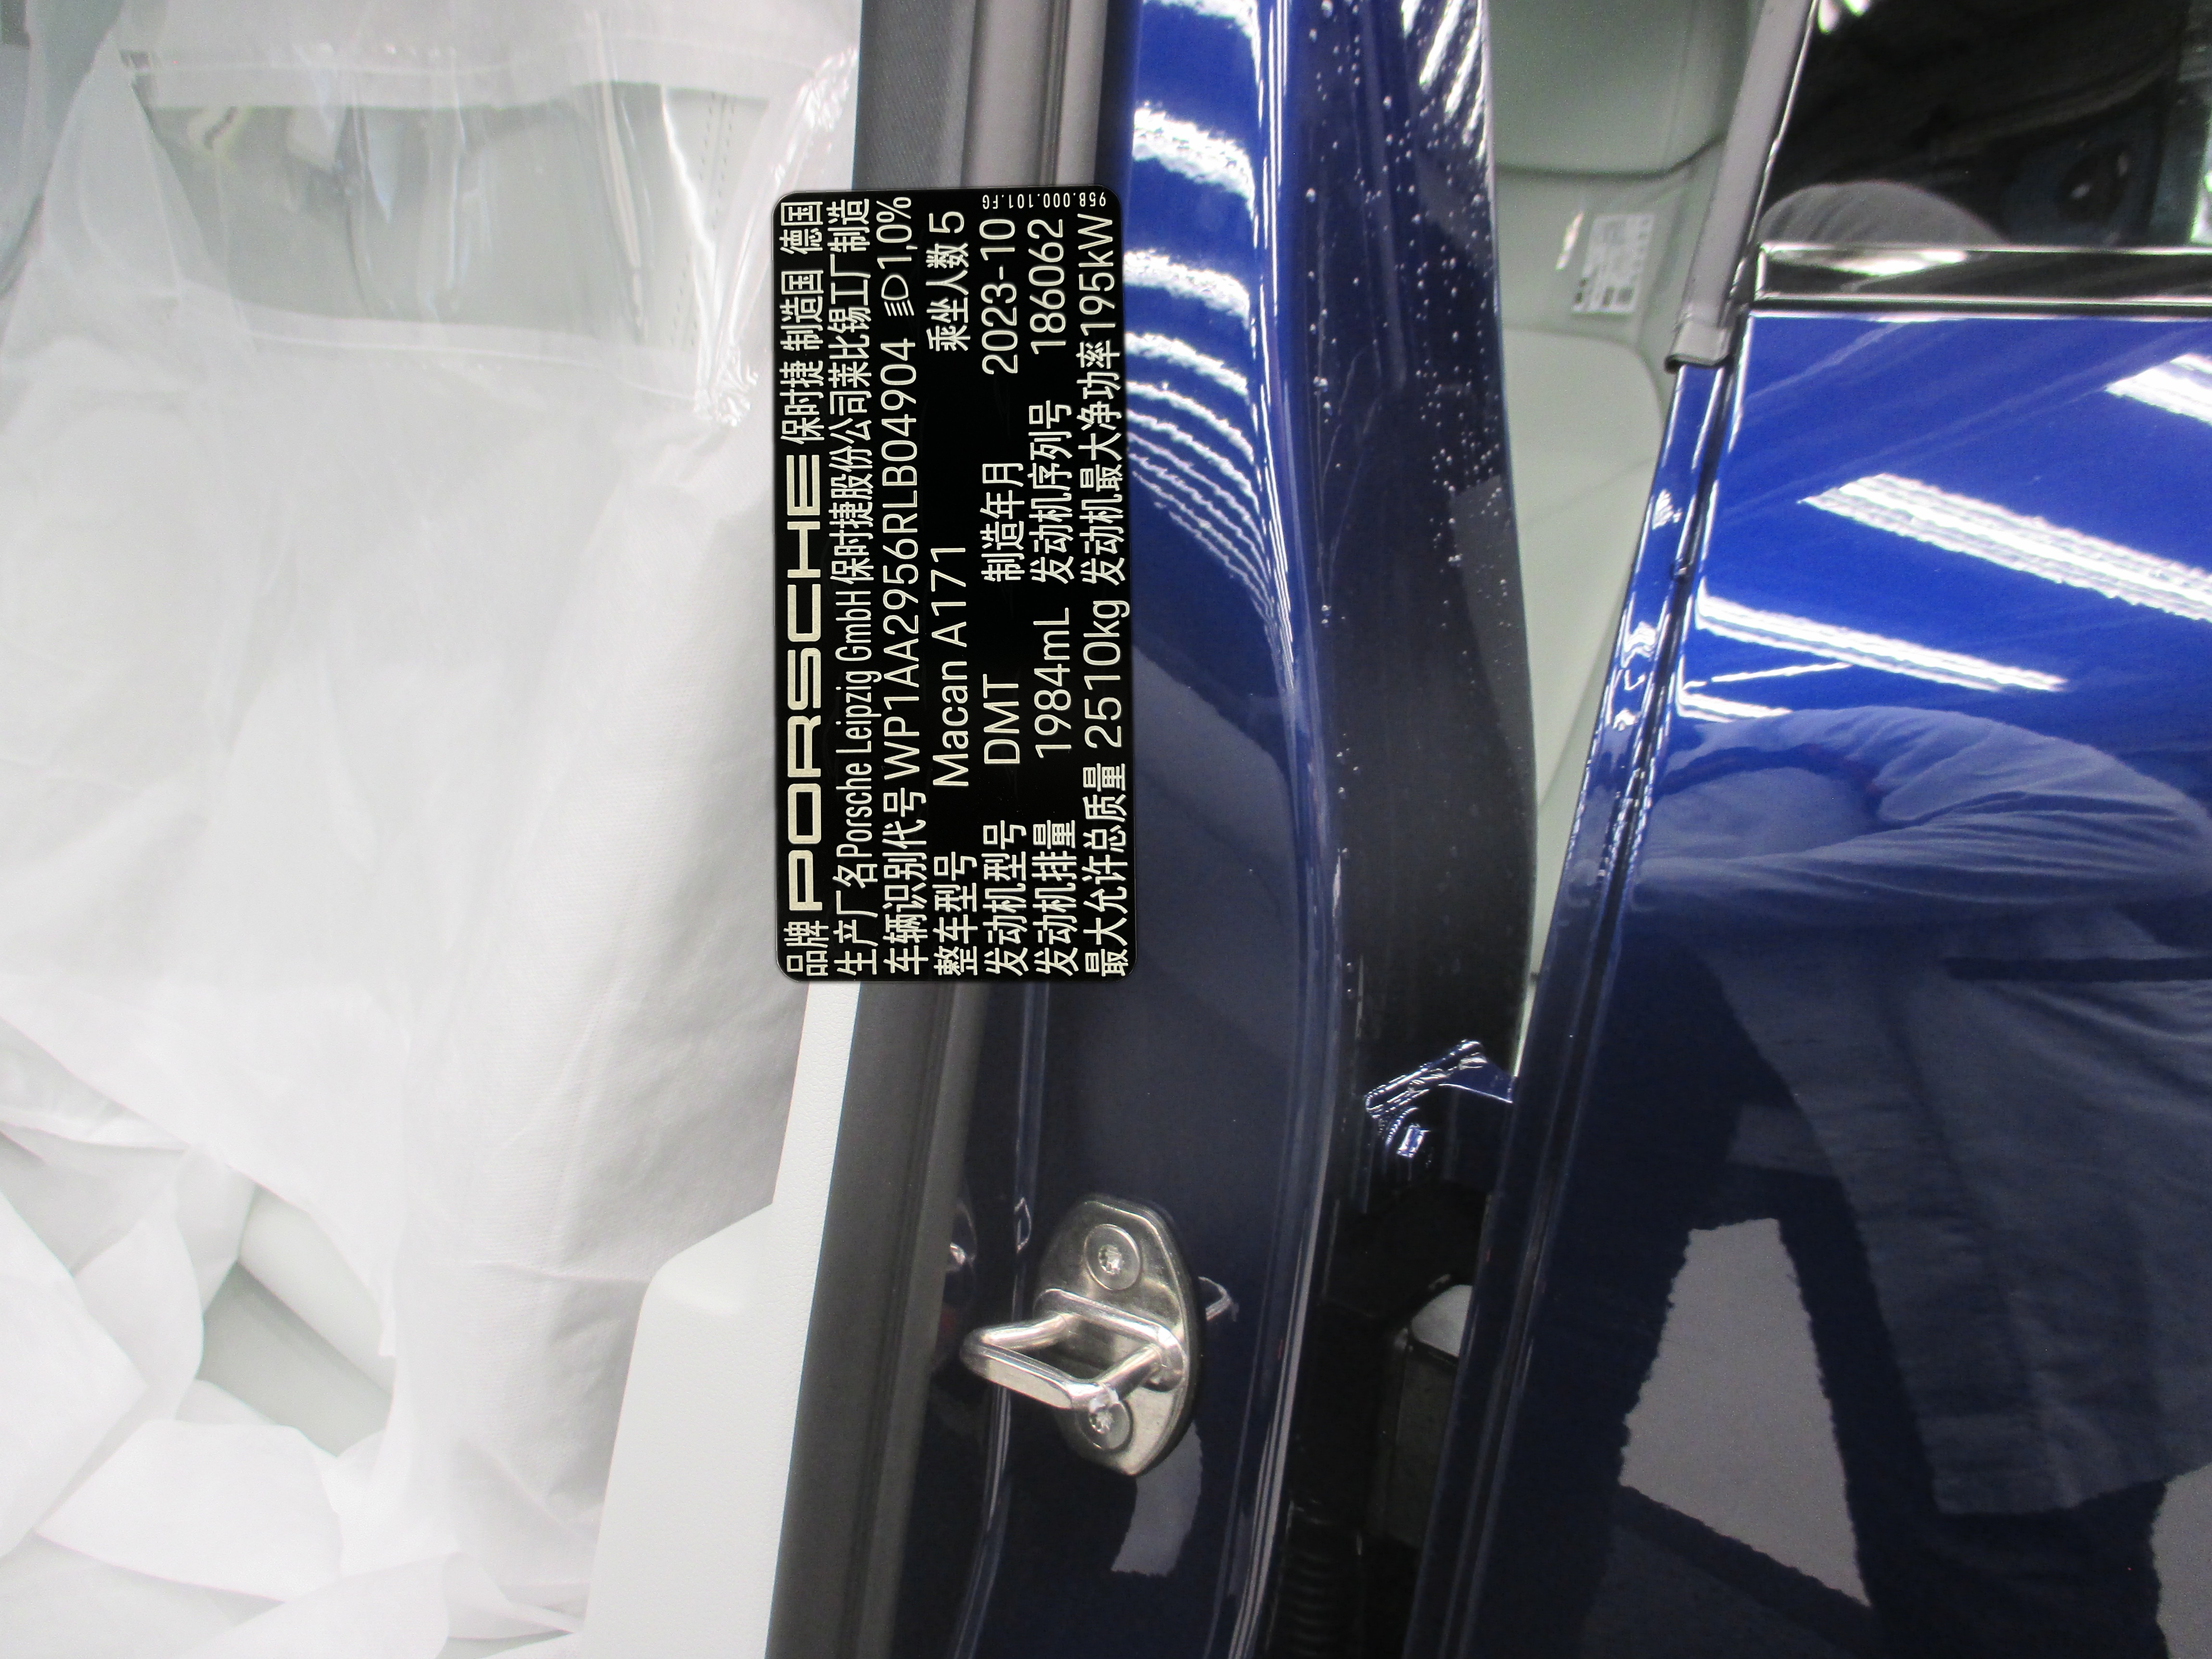Typlabel-China: (772, 185, 1136, 981)
